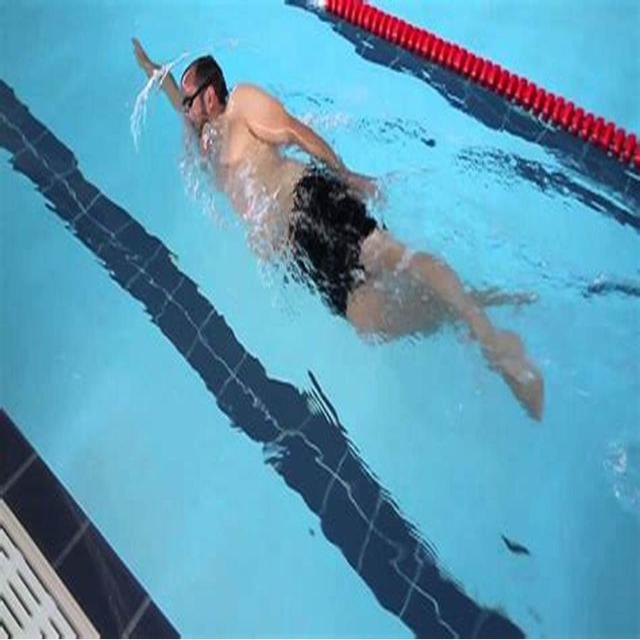Swimming: (128, 36, 552, 428)
